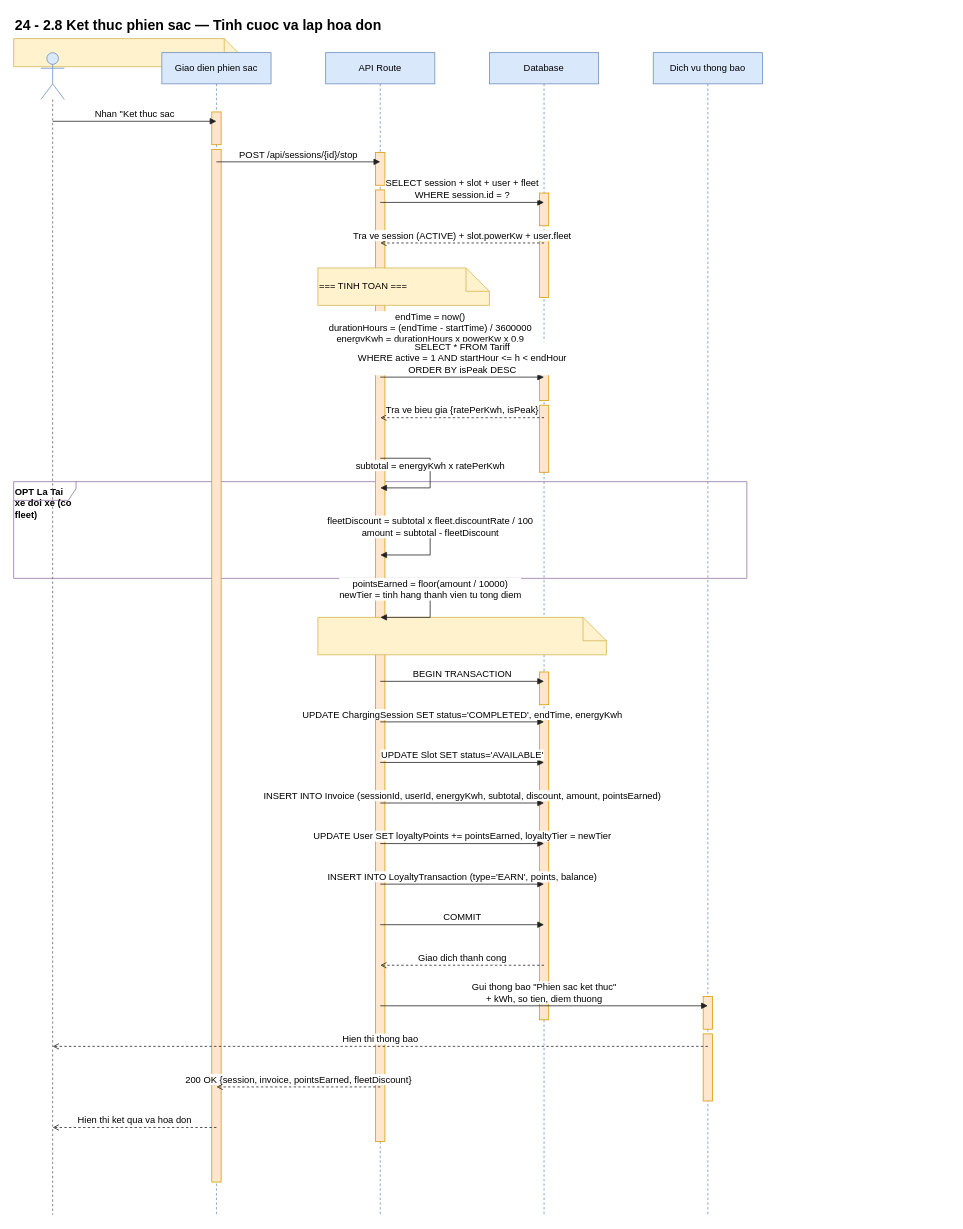
The diagram is 963 pixels wide and 1229 high, and some of its shapes have lost their labels. The shapes that lost their labels are listed below. From the top down, each one's centre as x and y in pixels, then its label:
At (130,52): "Mermaid sequence source: PHAN_TICH_THIET_KE_HE_THONG.md:1153".
At (52,75): "Khach hang".
At (461,636): "=== TRANSACTION (atomic) ===".
